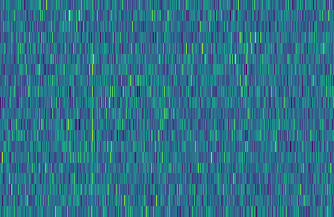signal: (85, 0, 95, 217)
